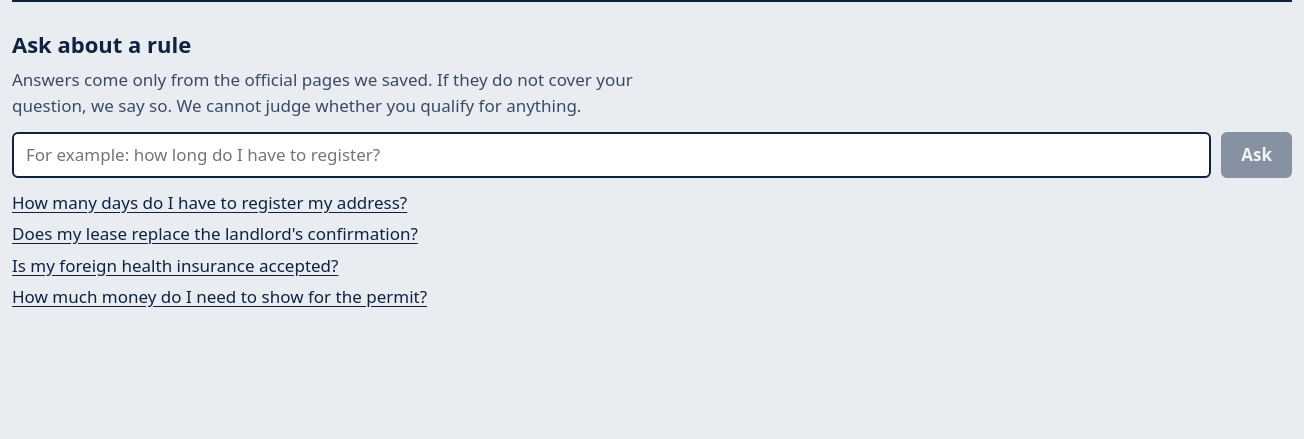
Test: Ask form › an unrelated question abstains and shows no passages
This screenshot has width=1304, height=439.
Type "where to start" into the field named "Your question" at [612, 155], box [12,132,1211,178]
Then press Enter
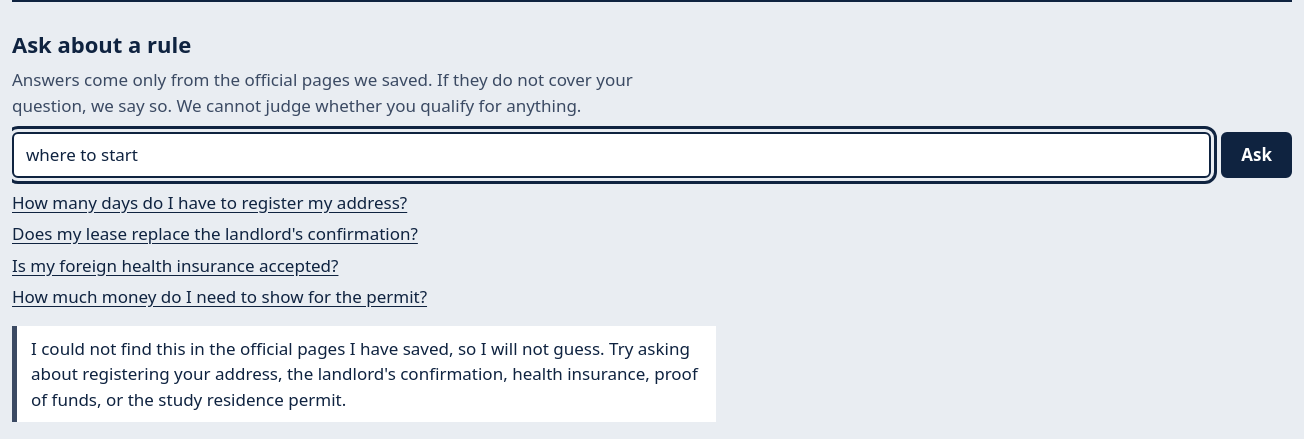
Now the text "could not find this in the official pages" is shown, box [31,336,698,410]
